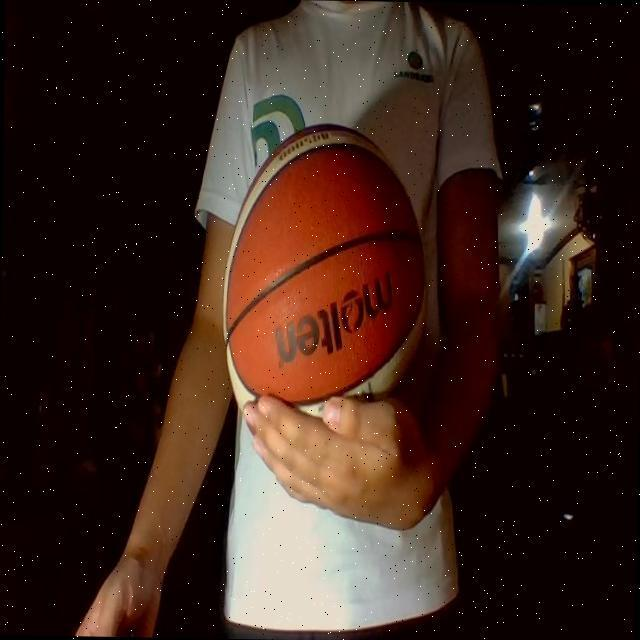ball: (217, 119, 432, 458)
